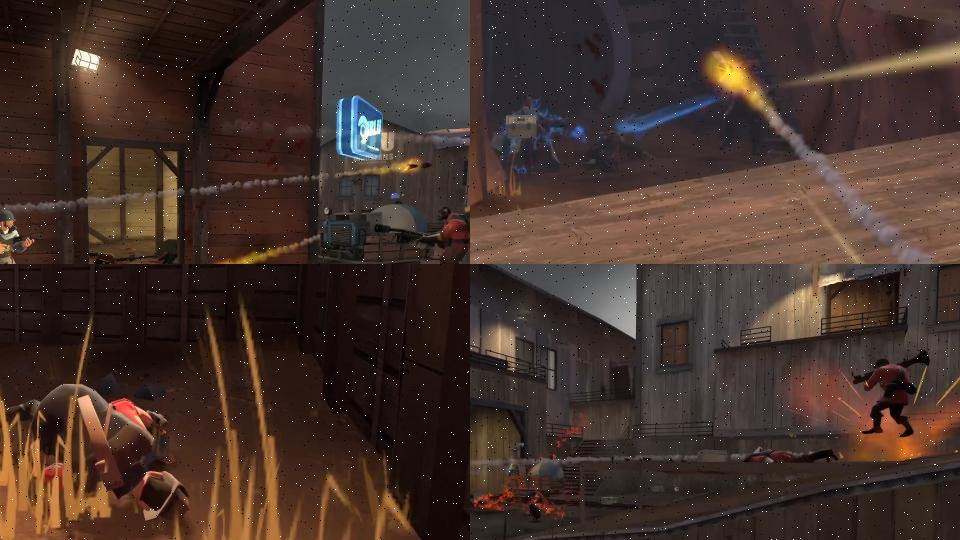Enemy: (0, 382, 191, 521), (851, 348, 931, 438), (374, 201, 470, 264), (0, 208, 37, 264), (740, 446, 838, 465)
